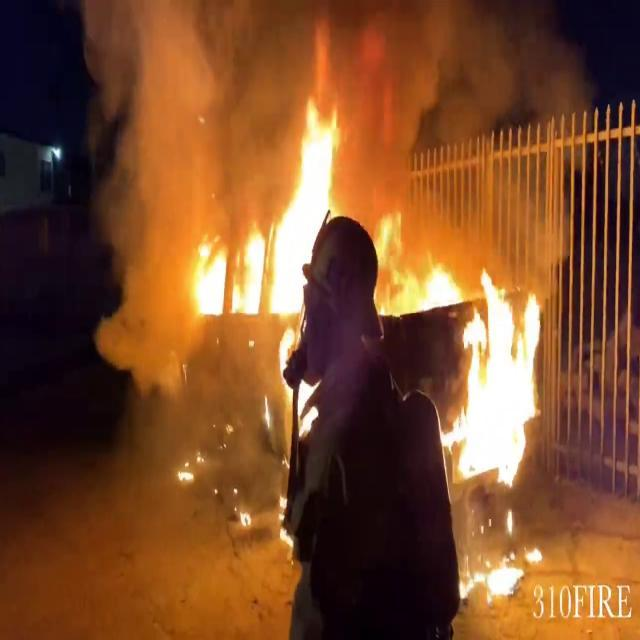Fire: (186, 95, 346, 339), (439, 242, 545, 489), (382, 210, 457, 314), (456, 536, 546, 608)
Smoke: (68, 0, 288, 310)
